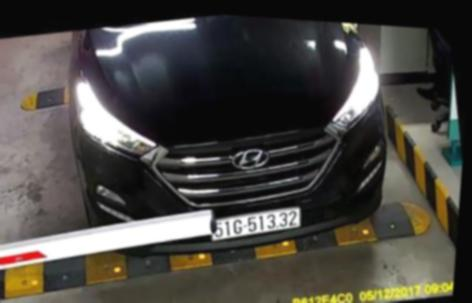License_Plate: (204, 201, 308, 252)
